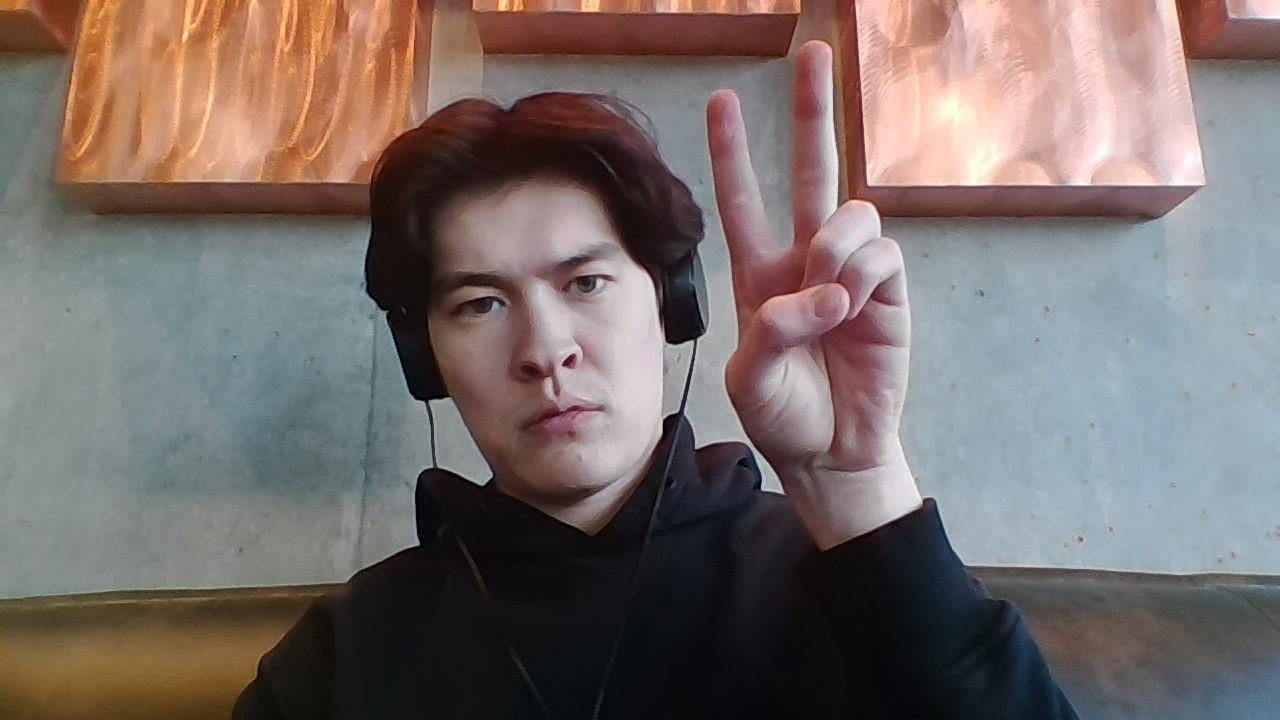peace: (710, 40, 916, 473)
